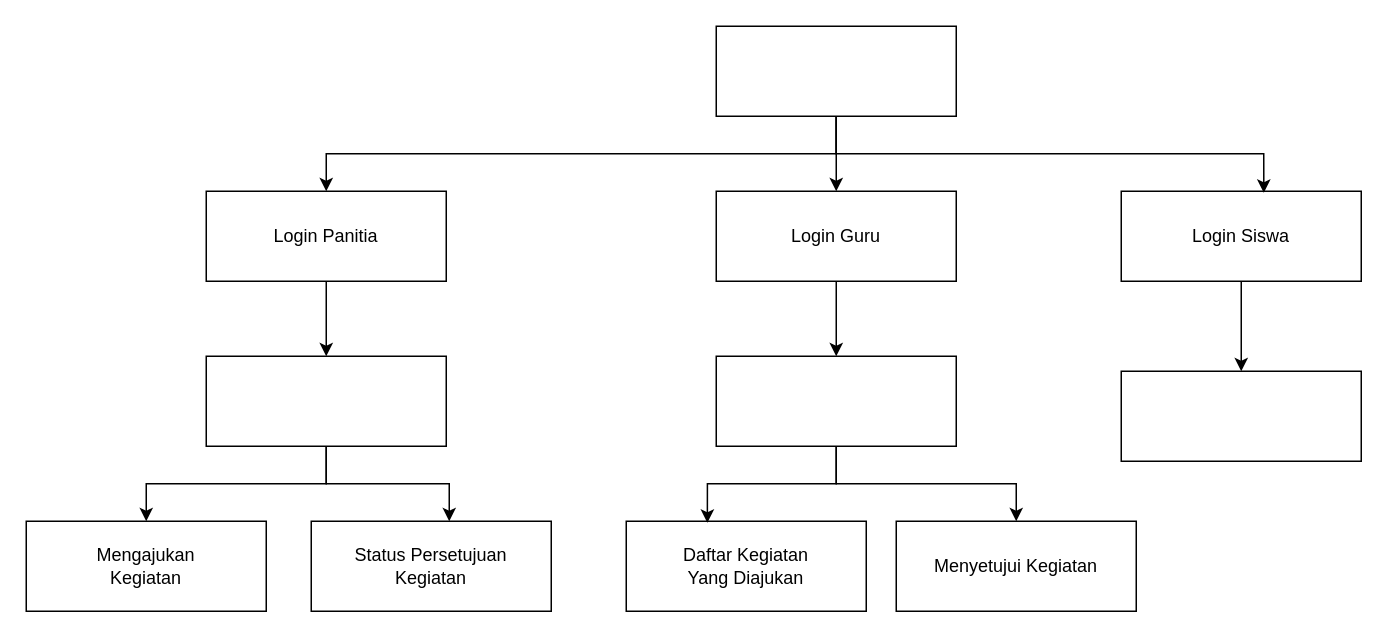
The diagram is 1388 pixels wide and 638 high, and some of its shapes have lost their labels. The shapes that lost their labels are listed below. From the top down, each one's centre as x and y in pixels, then its label:
At [835,70]: "Landing Page".
At [325,400]: "Beranda Panitia".
At [835,400]: "Beranda Guru".
At [1240,415]: "Daftar Kegiatan Yang Disetujui".
